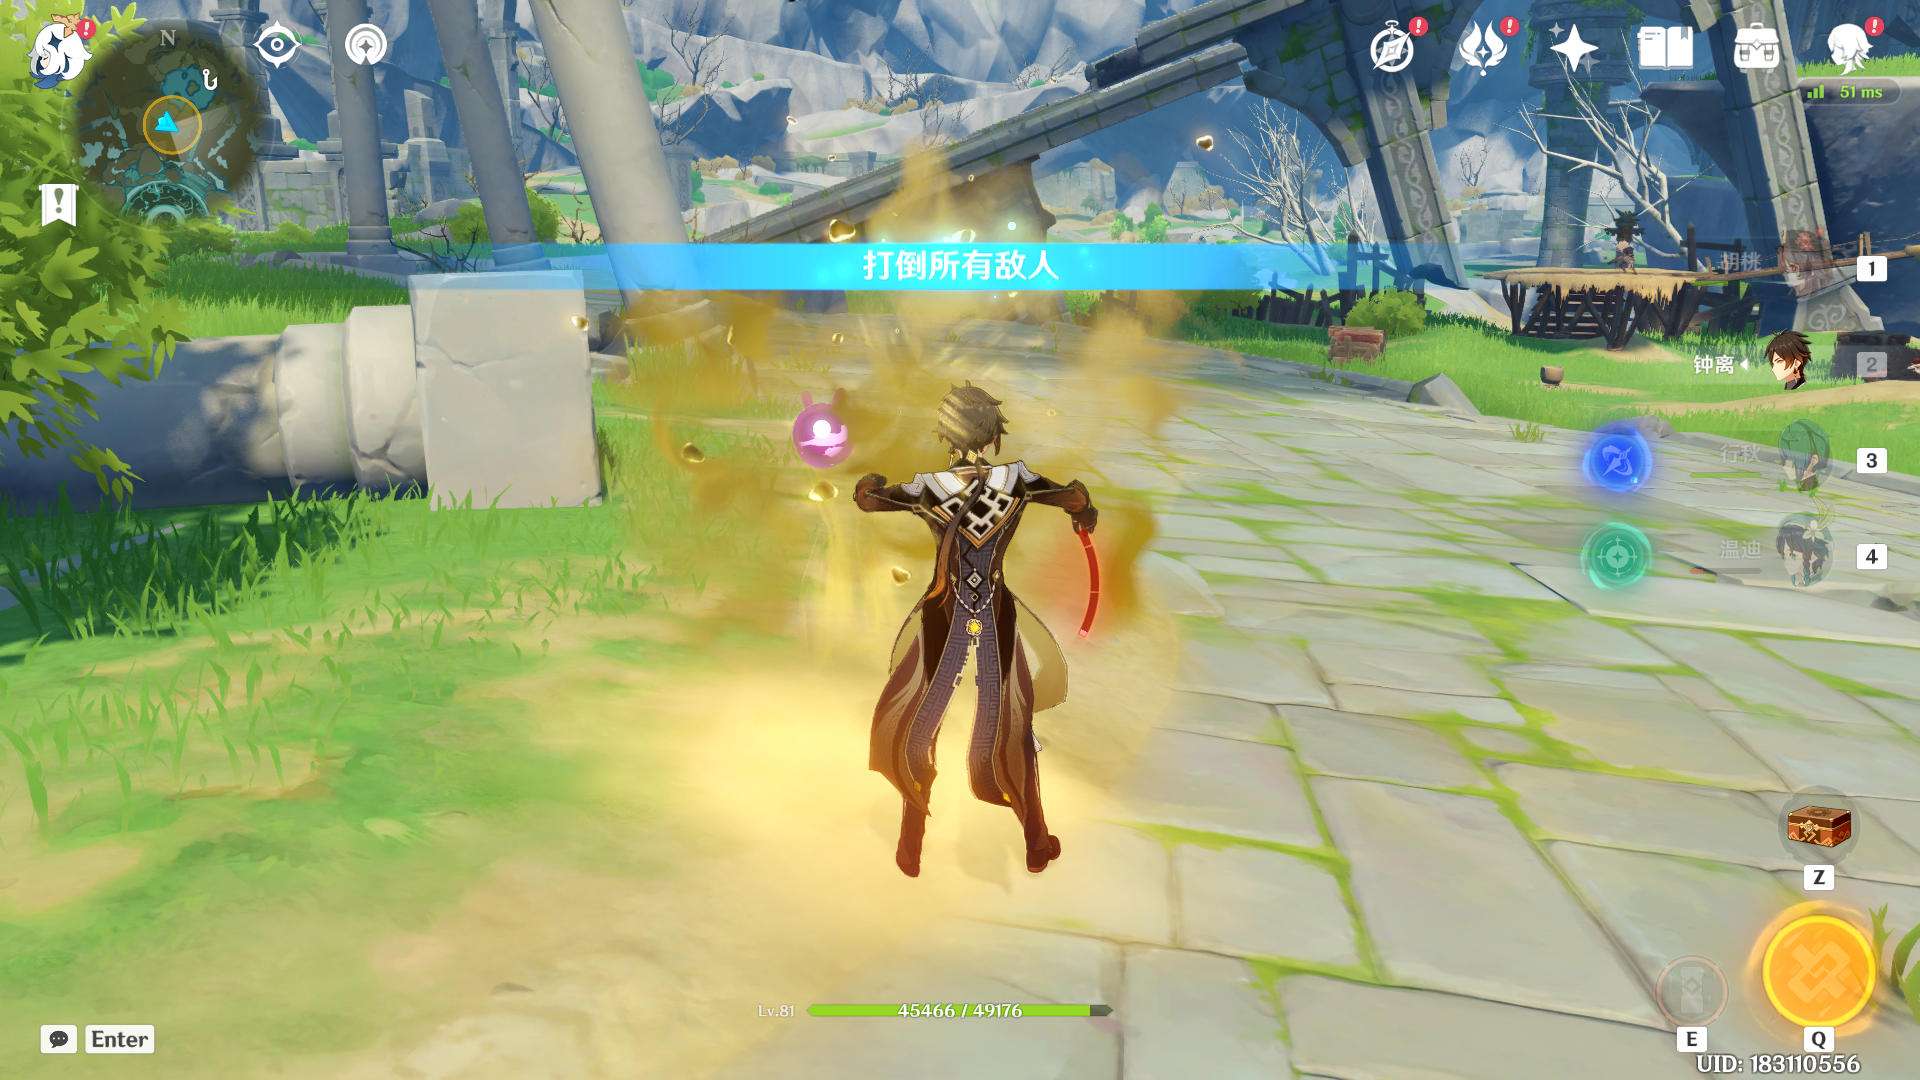character: (796, 380, 1191, 906)
